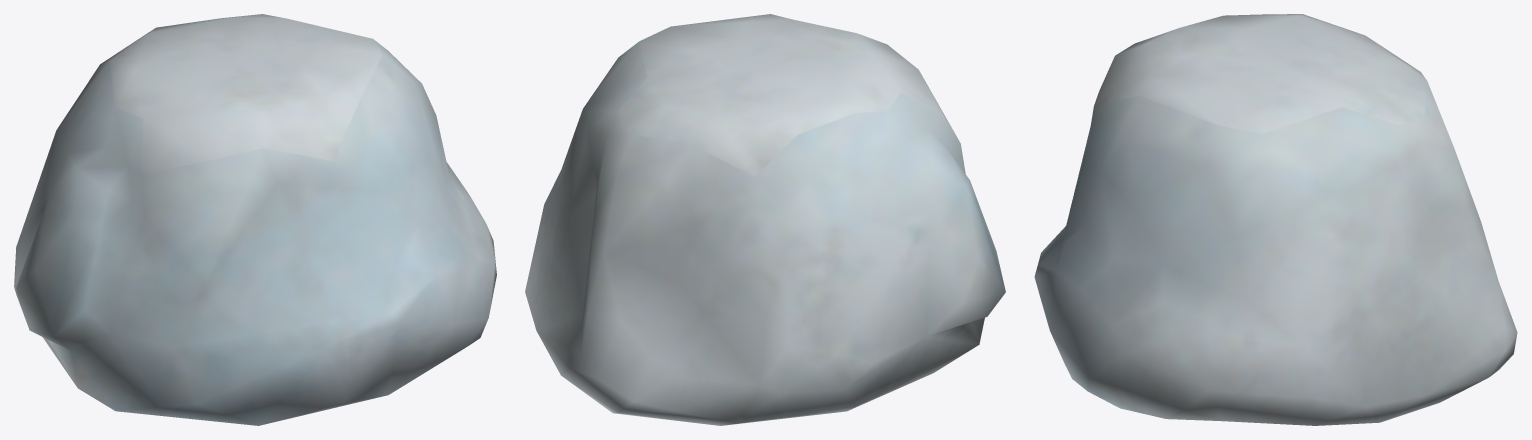
File: P_ShelfClassic3.obj
3 views of the same model, side by side, from view 1: azimuth 30°, elevation 25°; view 2: azimuth 150°, elevation 25°; view 3: azimuth 270°, elevation 25° (orthographic). The views are drawn at different scales.
Bounding box in the file's own units: 15.3 × 9.66 × 14.13.
